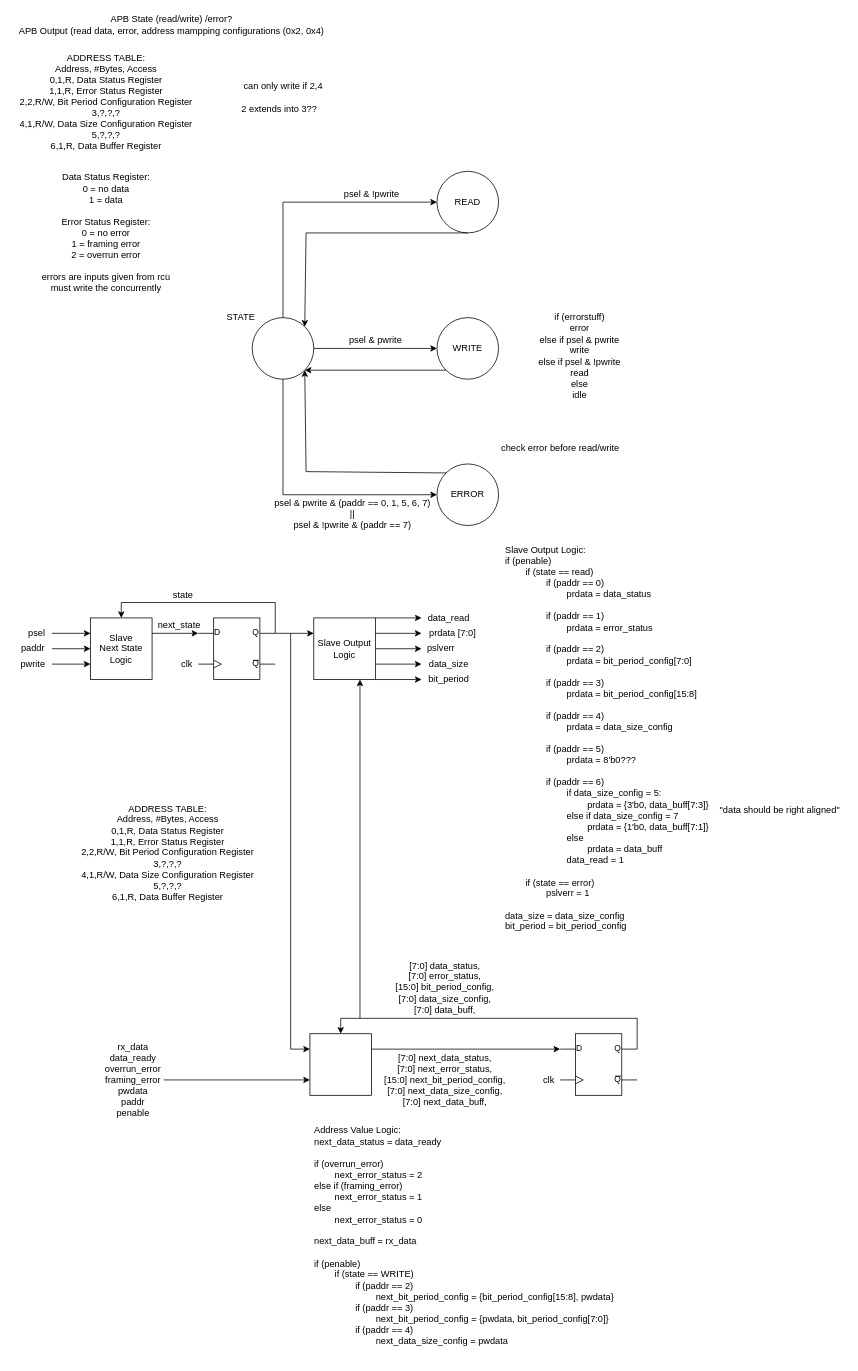
Some shapes in this 858 by 1371 pixel diagram are drawn without their labels. The shapes that lost their labels are listed below. From the top down, each one's centre as x and y in pixels, then its label:
At (x=282, y=348): "IDLE".
At (x=340, y=1064): "Address Next Value Logic".
